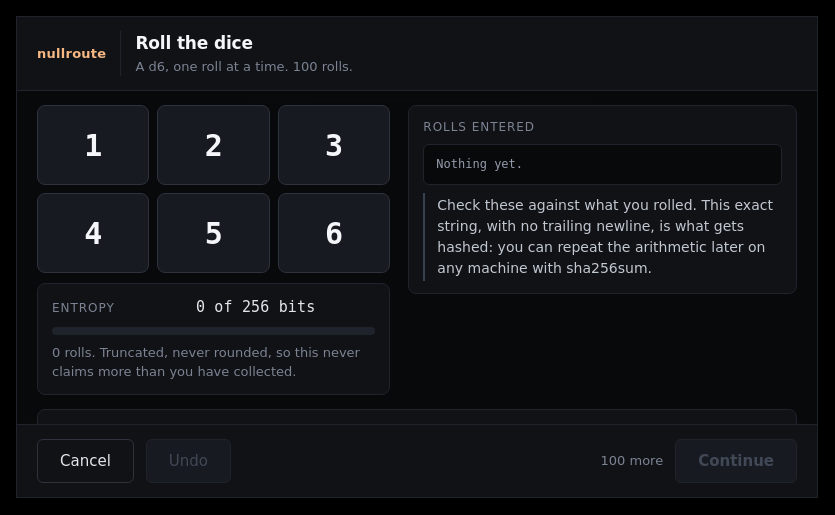
Test: ui.screens.dice › warns-without-blocking
Click the button with test id "die-3" at (334, 145), box [278, 105, 390, 185]
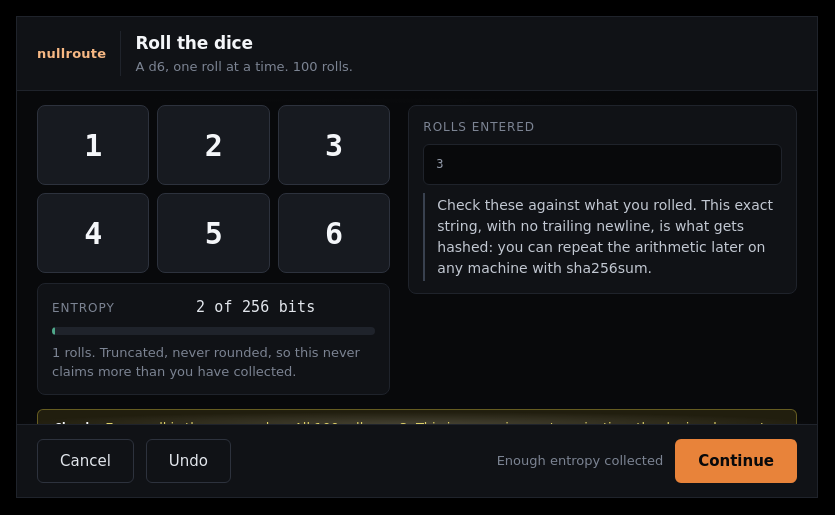
Now the button with test id "dice-continue" is enabled, box [675, 439, 797, 483]
